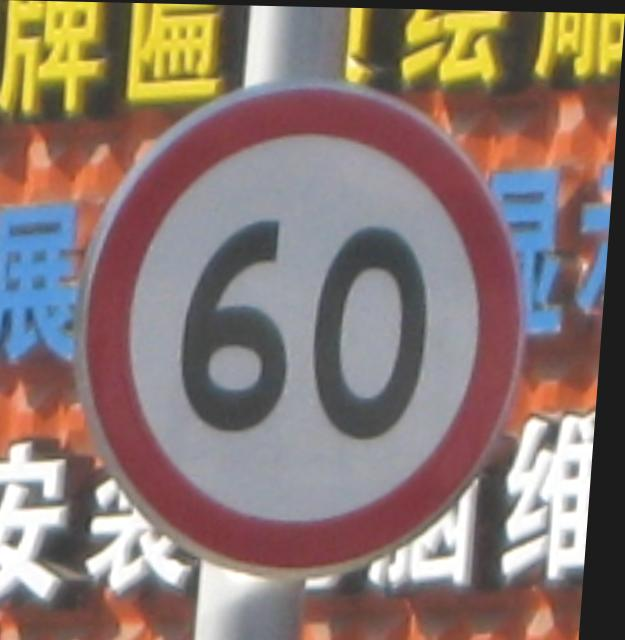limit60: (59, 67, 560, 584)
